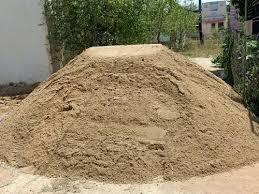sand: (184, 96, 210, 126), (42, 108, 64, 129), (143, 124, 162, 144), (158, 108, 177, 119), (102, 49, 115, 61), (138, 47, 151, 58)
